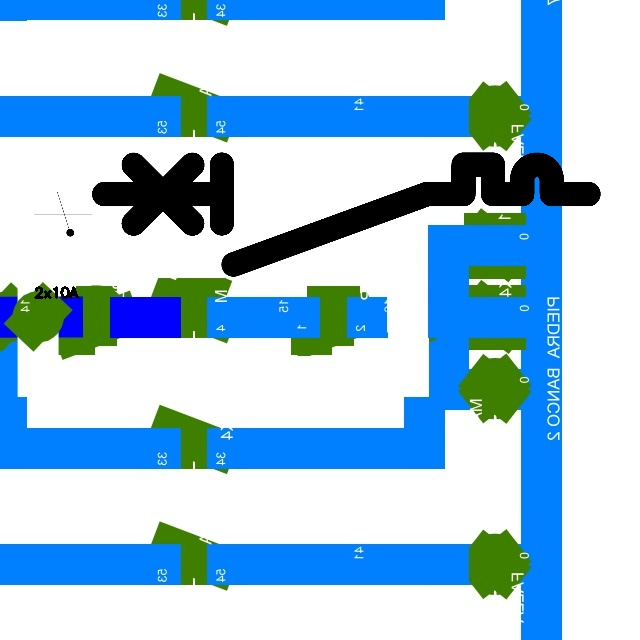interruptor_termomagnetico: (91, 152, 600, 276)
